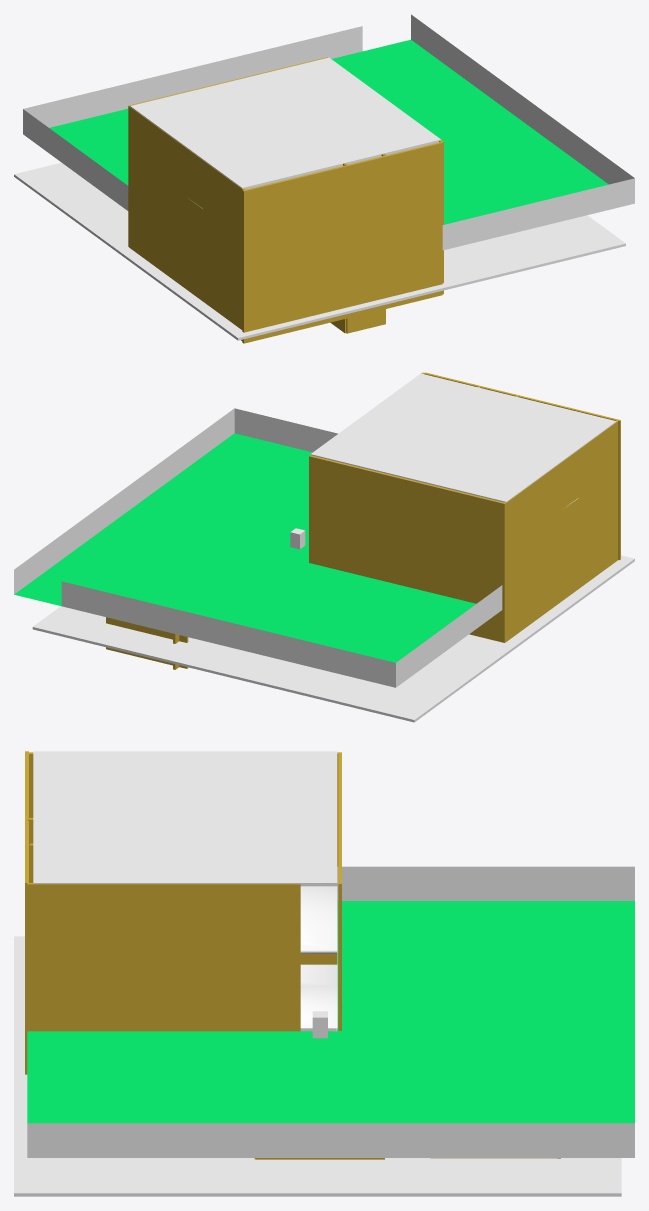
Rendered from Map.fbx.
3 renders of one model, top to bottom at view 1: azimuth 30°, elevation 25°; view 2: azimuth 150°, elevation 25°; view 3: azimuth 270°, elevation 25°, orthographic. The views are drawn at different scales.
Parts seen in each view (by area): view 1: Wall, Roof, Plane, FloorBasement, Fence, Fence (2), Fence (3), Fence (1), Wall (1), Wall (9); view 2: Plane, Wall (1), Roof, Wall, FloorBasement, Fence, Fence (2), Fence (1), Fence (3), Wall (25); view 3: Plane, Wall (1), Roof, FloorBasement, Fence (2), Fence (1), FloorSecondLevel, TopFloor.001, Wall.
Boxes of the visible parts, bbox=[...] form: Wall: bbox=[129, 105, 442, 343]; Roof: bbox=[130, 57, 441, 189]; Plane: bbox=[49, 39, 608, 224]; FloorBasement: bbox=[14, 162, 625, 340]; Fence: bbox=[23, 26, 362, 127]; Fence (2): bbox=[411, 14, 634, 184]; Fence (3): bbox=[442, 178, 634, 250]; Fence (1): bbox=[23, 109, 128, 210]; Wall (1): bbox=[128, 57, 443, 294]; Wall (9): bbox=[346, 309, 385, 333]; Plane: bbox=[14, 433, 476, 662]; Wall (1): bbox=[309, 372, 505, 642]; Roof: bbox=[310, 373, 616, 502]; Wall: bbox=[424, 372, 620, 642]; FloorBasement: bbox=[32, 555, 634, 722]; Fence: bbox=[61, 581, 395, 687]; Fence (2): bbox=[14, 408, 234, 594]; Fence (1): bbox=[396, 585, 502, 687]; Fence (3): bbox=[234, 408, 337, 452]; Wall (25): bbox=[106, 617, 188, 668]; Plane: bbox=[27, 901, 634, 1123]; Wall (1): bbox=[27, 752, 341, 1031]; Roof: bbox=[33, 751, 337, 886]; FloorBasement: bbox=[14, 936, 621, 1196]; Fence (2): bbox=[27, 1123, 634, 1157]; Fence (1): bbox=[337, 866, 634, 900]; FloorSecondLevel: bbox=[300, 886, 337, 953]; TopFloor.001: bbox=[300, 898, 337, 1031]; Wall: bbox=[25, 751, 340, 1074].
Bounding box in the file's own units: 4144 × 1659 × 4088.
